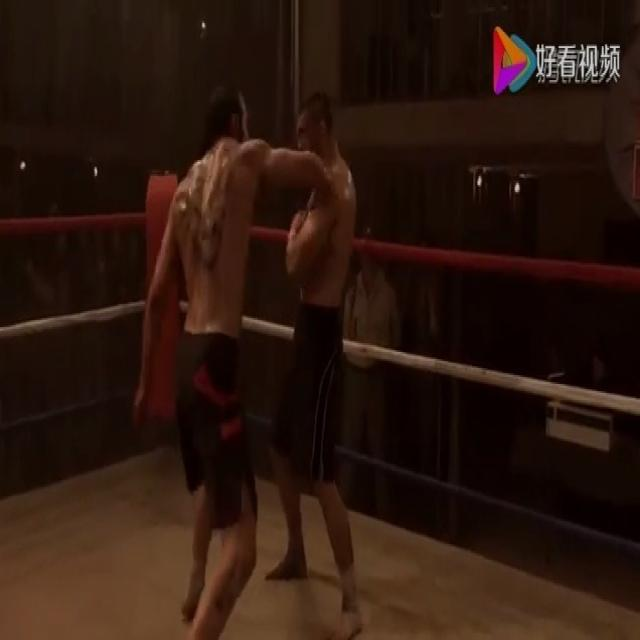fight: (126, 84, 373, 638)
